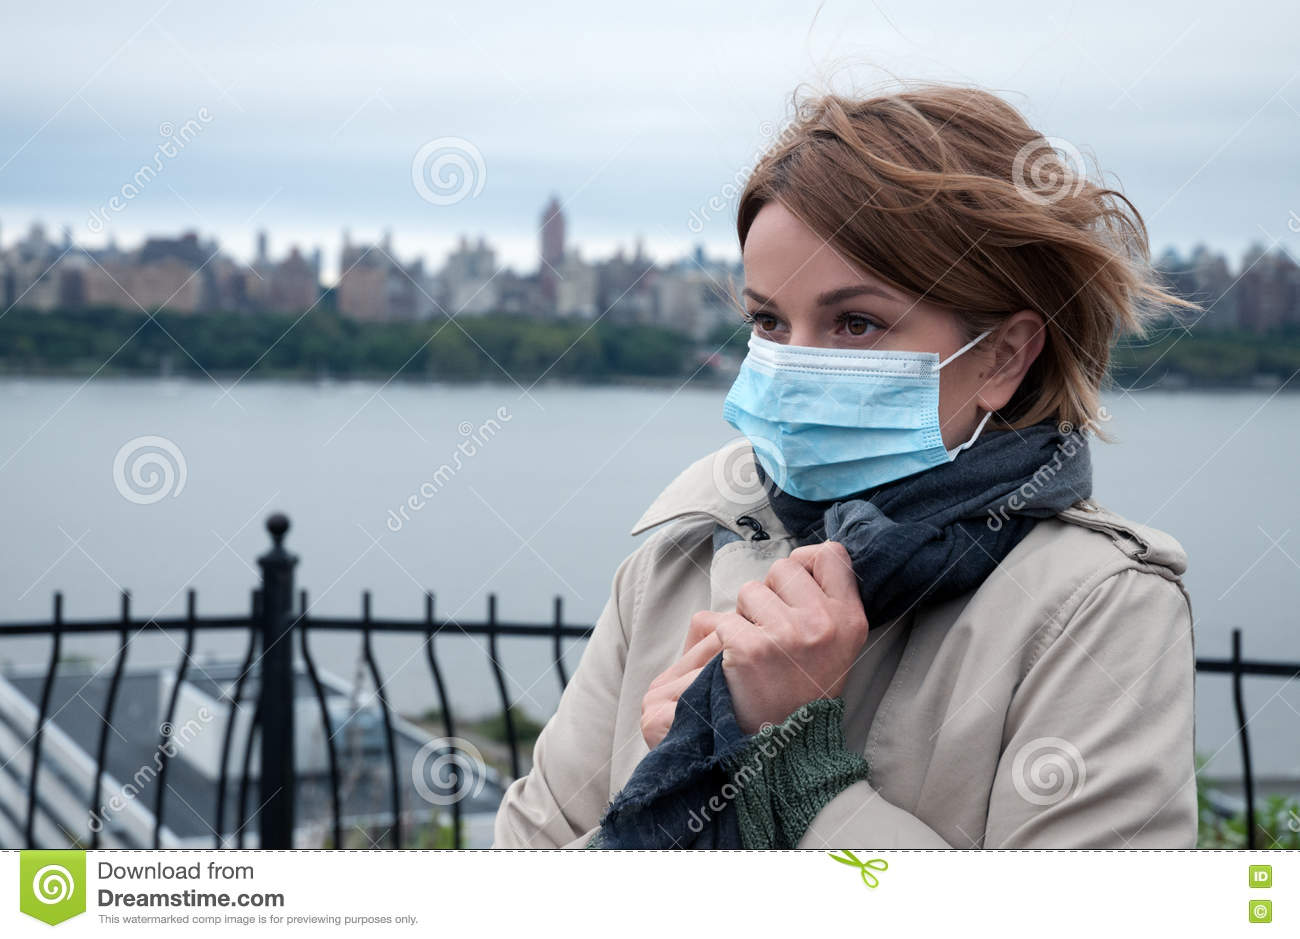mask: (723, 333, 958, 498)
